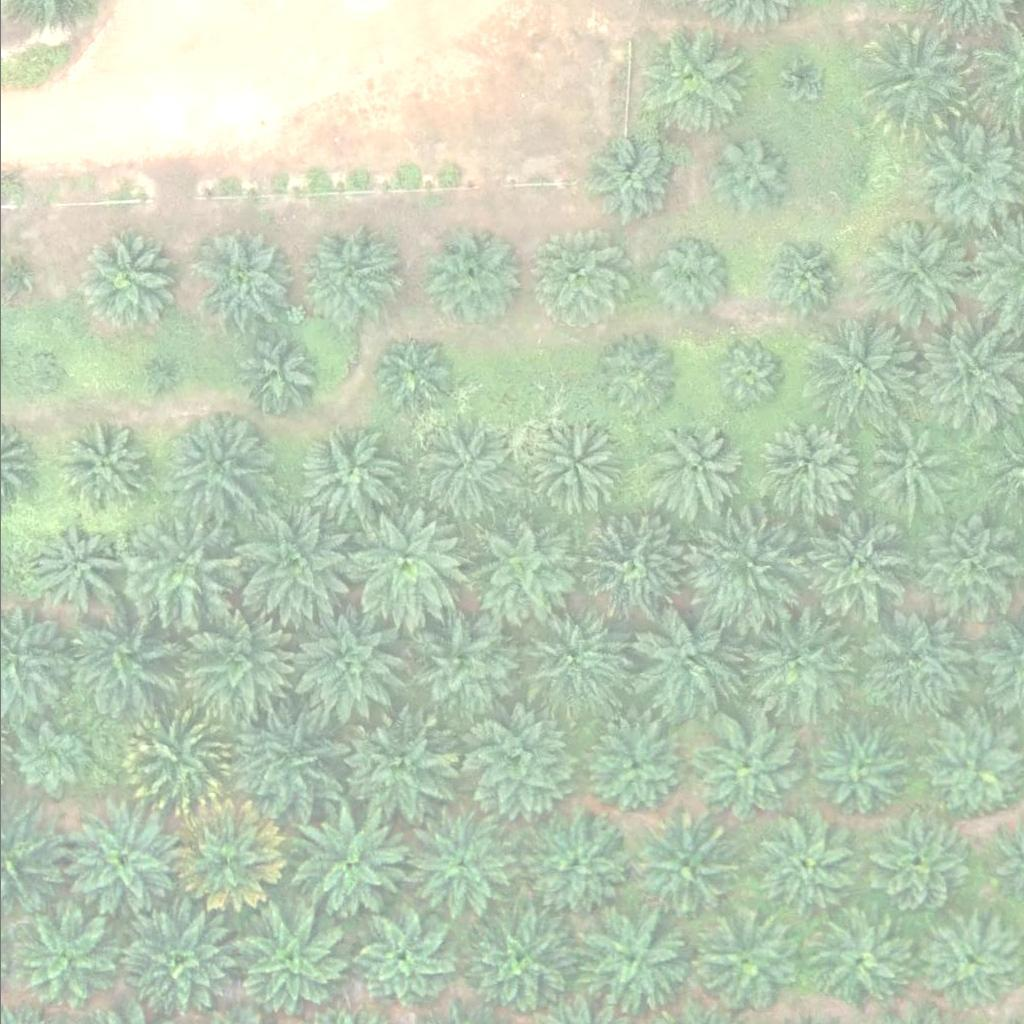Kelapa_Sawit: (811, 314, 925, 427), (160, 409, 274, 522), (862, 605, 975, 718), (908, 511, 1021, 624), (861, 219, 974, 332), (690, 513, 803, 626), (573, 514, 686, 627), (742, 610, 855, 723), (628, 607, 741, 720), (517, 601, 630, 714), (402, 609, 515, 722), (462, 709, 575, 822), (348, 712, 461, 825), (230, 711, 343, 824), (575, 902, 688, 1015), (2, 904, 115, 1017), (169, 800, 282, 913), (120, 702, 233, 815), (68, 802, 181, 915), (796, 511, 910, 623), (635, 24, 749, 136), (232, 509, 346, 621), (62, 603, 176, 715), (126, 512, 240, 624), (860, 23, 973, 135), (464, 509, 577, 621), (343, 508, 456, 620), (291, 611, 404, 723), (688, 714, 801, 826), (749, 809, 862, 921), (622, 816, 735, 928), (516, 809, 629, 921), (397, 809, 510, 921), (291, 806, 404, 918), (457, 909, 570, 1021), (233, 910, 346, 1022), (120, 903, 233, 1015), (176, 600, 289, 712), (920, 911, 1021, 1011), (803, 911, 904, 1011), (866, 815, 967, 915), (809, 718, 910, 818), (301, 222, 402, 322), (752, 414, 853, 514), (640, 420, 741, 520), (522, 415, 623, 515), (583, 720, 684, 820), (349, 910, 450, 1010), (190, 230, 291, 330), (82, 228, 183, 328), (858, 422, 958, 522), (528, 232, 628, 332), (421, 227, 521, 327), (409, 425, 509, 525), (296, 427, 396, 527), (700, 912, 800, 1012), (588, 141, 676, 229), (703, 135, 791, 222), (753, 234, 841, 321), (644, 231, 732, 318), (589, 333, 677, 420), (29, 525, 117, 612), (62, 425, 150, 512), (233, 331, 321, 418), (373, 338, 449, 413), (13, 720, 89, 795), (710, 336, 785, 411), (776, 53, 827, 103), (840, 150, 890, 200), (20, 356, 58, 394), (148, 369, 173, 394)
